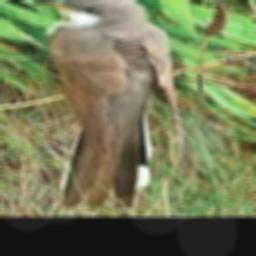Cuckoo: (31, 0, 175, 205)
